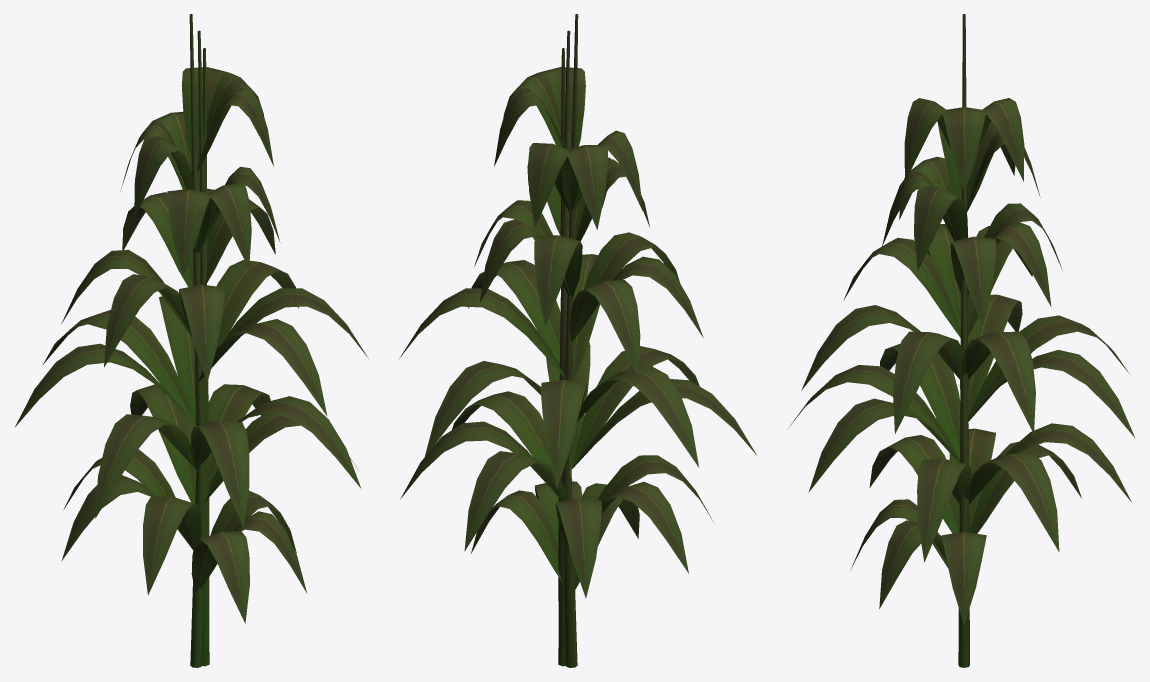
File: vt1-roadside-corn.glb
The picture shows the model from 3 angles, left to right: view 1: azimuth 30°, elevation 25°; view 2: azimuth 150°, elevation 25°; view 3: azimuth 270°, elevation 25°; orthographic projection.
Visible parts, largest first — view 1: vt1_roadside_corn_0, vt1_roadside_corn_2, vt1_roadside_corn_1; view 2: vt1_roadside_corn_0, vt1_roadside_corn_2, vt1_roadside_corn_1; view 3: vt1_roadside_corn_1, vt1_roadside_corn_0, vt1_roadside_corn_2.
Part boxes in pixels (box(x1,y1,x2,y2)): vt1_roadside_corn_0: box(15, 48, 361, 667); vt1_roadside_corn_2: box(61, 14, 358, 665); vt1_roadside_corn_1: box(43, 30, 368, 666); vt1_roadside_corn_0: box(399, 48, 713, 667); vt1_roadside_corn_2: box(424, 14, 756, 665); vt1_roadside_corn_1: box(400, 30, 703, 666); vt1_roadside_corn_1: box(788, 36, 1129, 642); vt1_roadside_corn_0: box(808, 57, 1131, 654); vt1_roadside_corn_2: box(801, 14, 1134, 667).
Bounding box in the file's own units: 1.6 × 3.32 × 1.63.
1 material, 1 textured.
